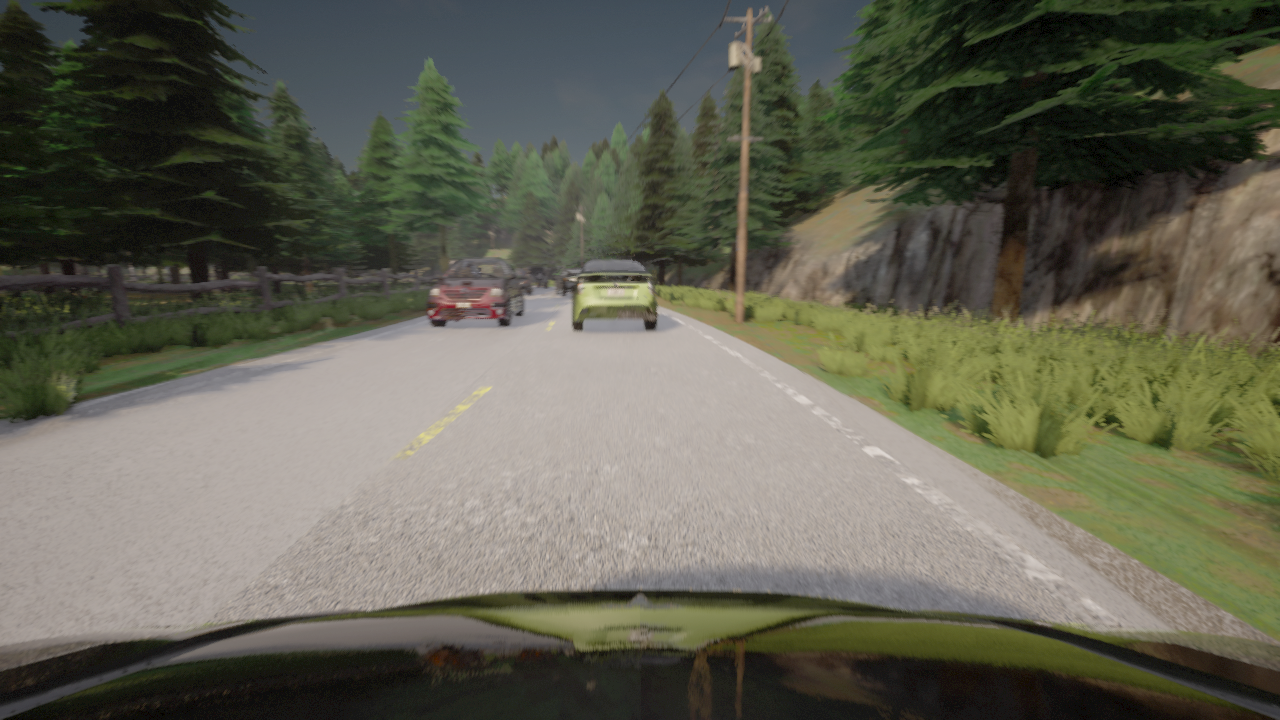cyclist: (0, 588, 1279, 719), (426, 257, 523, 327), (569, 259, 657, 331), (555, 268, 581, 296), (525, 265, 547, 287), (514, 268, 532, 294), (450, 259, 457, 265)
